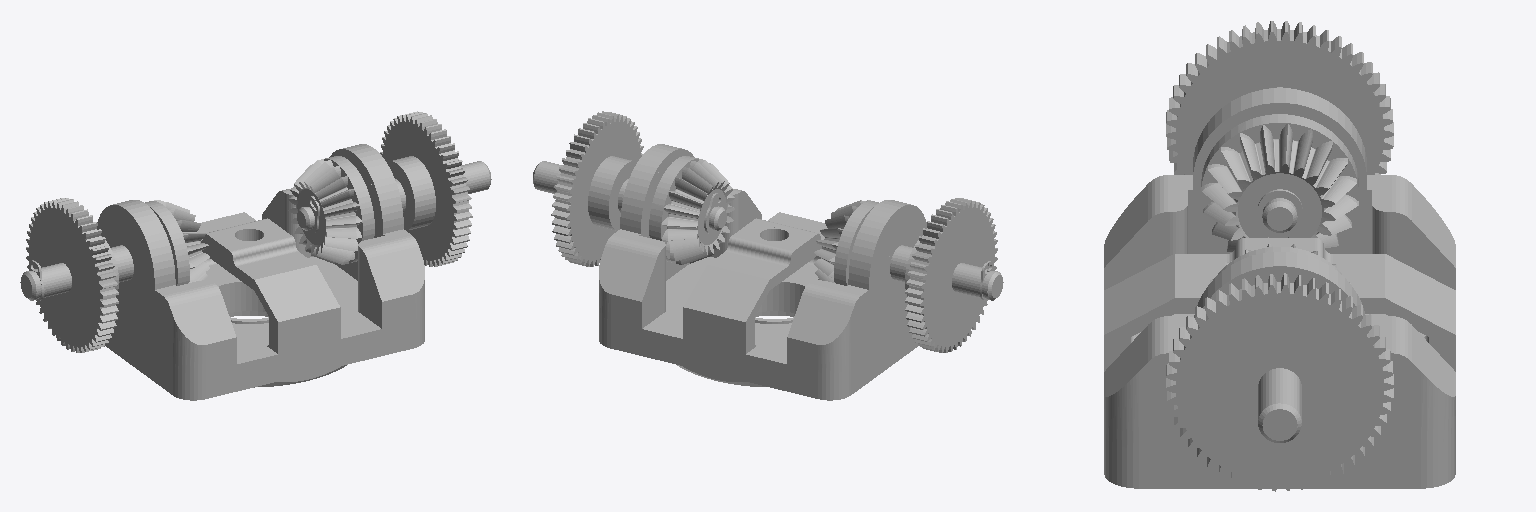
The robot description file, URDF, robot "signaturebot":
<?xml version="1.0" encoding="utf-8"?>

<robot
  name="signaturebot">
  <link name="world"/>

  <link
    name="base_link">
    <inertial>
      <origin
        xyz="0.043978 0.06035 0.0703"
        rpy="0 0 0" />
      <mass
        value="0.3524" />
      <inertia
        ixx="0.0003254"
        ixy="3.9578E-07"
        ixz="2.8883E-06"
        iyy="0.00040409"
        iyz="1.6475E-07"
        izz="0.00040678" />
    </inertial>
    <visual>
      <origin
        xyz="0 0 0"
        rpy="0 0 0" />
      <geometry>
        <mesh
          filename="package://fyp/meshes/visual/base_link.STL" />
      </geometry>
      <material
        name="">
        <color
          rgba="0.75294 0.75294 0.75294 1" />
      </material>
    </visual>
    <collision>
      <origin
        xyz="0 0 0"
        rpy="0 0 0" />
      <geometry>
        <mesh
          filename="package://fyp/meshes/collision/base_link.STL" />
      </geometry>
    </collision>
  </link>

  <joint name="fixed" type="fixed">
    <parent link="world"/>
    <child link="base_link"/>
    <origin rpy="0 0 0" xyz="0 0 0"/>
  </joint>

  <link
    name="pitch_link">
    <inertial>
      <origin
        xyz="1.1547E-05 0.0084522 -0.00010354"
        rpy="0 0 0" />
      <mass
        value="0.052828" />
      <inertia
        ixx="3.7725E-06"
        ixy="8.6169E-10"
        ixz="-5.1431E-09"
        iyy="6.3069E-06"
        iyz="4.0016E-11"
        izz="4.2353E-06" />
    </inertial>
    <visual>
      <origin
        xyz="0 0 0"
        rpy="0 0 0" />
      <geometry>
        <mesh
          filename="package://fyp/meshes/visual/pitch_link.STL" />
      </geometry>
      <material
        name="">
        <color
          rgba="0.75294 0.75294 0.75294 1" />
      </material>
    </visual>
    <collision>
      <origin
        xyz="0 0 0"
        rpy="0 0 0" />
      <geometry>
        <mesh
          filename="package://fyp/meshes/collision/pitch_link.STL" />
      </geometry>
    </collision>
  </link>

  <joint
    name="pitch"
    type="revolute">
    <origin
      xyz="0.096806 0.060005 0.15025"
      rpy="1.5708 0 1.5708" />
    <parent
      link="base_link" />
    <child
      link="pitch_link" />
    <axis
      xyz="0 0 1" />
    <limit
      lower="-1.571"
      upper="0.698"
      effort="100"
      velocity="1.0" />
    <dynamics
      damping="0.05"
      friction="0.02" />
  </joint>

  <transmission name="tran1">
    <type>transmission_interface/SimpleTransmission</type>
    <joint name="pitch">
      <hardwareInterface>hardware_interface/EffortJointInterface</hardwareInterface>
    </joint>
    <actuator name="motor1">
      <hardwareInterface>hardware_interface/EffortJointInterface</hardwareInterface>
      <mechanicalReduction>5</mechanicalReduction>
    </actuator>
  </transmission>

  <link
    name="yaw_link">
    <inertial>
      <origin
        xyz="0.011971 -0.022027 0.040808"
        rpy="0 0 0" />
      <mass
        value="0.15684" />
      <inertia
        ixx="6.4727E-05"
        ixy="8.0682E-06"
        ixz="-8.0047E-07"
        iyy="8.989E-05"
        iyz="5.6188E-07"
        izz="0.00012939" />
    </inertial>
    <visual>
      <origin
        xyz="0 0 0"
        rpy="0 0 0" />
      <geometry>
        <mesh
          filename="package://fyp/meshes/visual/yaw_link.STL" />
      </geometry>
      <material
        name="">
        <color
          rgba="0.49804 0.49804 0.49804 1" />
      </material>
    </visual>
    <collision>
      <origin
        xyz="0 0 0"
        rpy="0 0 0" />
      <geometry>
        <mesh
          filename="package://fyp/meshes/collision/yaw_link.STL" />
      </geometry>
    </collision>
  </link>

  <joint
    name="yaw"
    type="revolute">
    <origin
      xyz="0 0 0"
      rpy="-1.5708 0 0" />
    <parent
      link="pitch_link" />
    <child
      link="yaw_link" />
    <axis
      xyz="0 0 -1" />
    <limit
      lower="-0.96"
      upper="1.571"
      effort="100"
      velocity="1.0" />
    <dynamics
      damping="0.05"
      friction="0.02" />
  </joint>

  <transmission name="tran2">
    <type>transmission_interface/SimpleTransmission</type>
    <joint name="yaw">
      <hardwareInterface>hardware_interface/EffortJointInterface</hardwareInterface>
    </joint>
    <actuator name="motor2">
      <hardwareInterface>hardware_interface/EffortJointInterface</hardwareInterface>
      <mechanicalReduction>10</mechanicalReduction>
    </actuator>
  </transmission>

  <link
    name="extension_link">
    <inertial>
      <origin
        xyz="0.0061908 -0.065885 9.3556E-05"
        rpy="0 0 0" />
      <mass
        value="0.081074" />
      <inertia
        ixx="5.9014E-05"
        ixy="-3.3423E-08"
        ixz="-2.5282E-11"
        iyy="6.0525E-05"
        iyz="-1.0724E-09"
        izz="4.9084E-06" />
    </inertial>
    <visual>
      <origin
        xyz="0 0 0"
        rpy="0 0 0" />
      <geometry>
        <mesh
          filename="package://fyp/meshes/visual/extension_link.STL" />
      </geometry>
      <material
        name="">
        <color
          rgba="0.79216 0.81961 0.93333 1" />
      </material>
    </visual>
    <collision>
      <origin
        xyz="0 0 0"
        rpy="0 0 0" />
      <geometry>
        <mesh
          filename="package://fyp/meshes/collision/extension_link.STL" />
      </geometry>
    </collision>
  </link>

  <joint
    name="extension"
    type="prismatic">
    <origin
      xyz="0 -3.6757E-05 -0.050079"
      rpy="-1.5708 0 -1.5708" />
    <parent
      link="yaw_link" />
    <child
      link="extension_link" />
    <axis
      xyz="0 0 1" />
    <limit
      lower="0"
      upper="0.065"
      effort="100"
      velocity="0.5" />
    <dynamics
      damping="0.05"
      friction="0.02" />
  </joint>

  <transmission name="tran3">
    <type>transmission_interface/SimpleTransmission</type>
    <joint name="extension">
      <hardwareInterface>hardware_interface/EffortJointInterface</hardwareInterface>
    </joint>
    <actuator name="motor3">
      <hardwareInterface>hardware_interface/EffortJointInterface</hardwareInterface>
      <mechanicalReduction>0.03927</mechanicalReduction>
    </actuator>
  </transmission>

  <gazebo>
    <plugin name="control" filename='libgazebo_ros_control.so'>
      <robotNamespace>/signaturebot</robotNamespace>
    </plugin>
  </gazebo>

  <!--gazebo plugin that publishes JointState messages for all joints, works in conjuctiong with robot_state_publisher to give 3D robot state-->
  <gazebo>
    <plugin name="joint_state_publisher" filename="libgazebo_ros_joint_state_publisher.so">
      <jointName>pitch, yaw, extension</jointName>
      <robotNamespace>/signaturebot</robotNamespace>
      <updateRate>100.0</updateRate>
    </plugin>
  </gazebo>

</robot>

--- Facts derived from the render (not from the file) ---
The picture shows the robot from 3 angles, left to right: view 1: azimuth 30°, elevation 25°; view 2: azimuth 150°, elevation 25°; view 3: azimuth 270°, elevation 25°; orthographic projection.
Robot: signaturebot — 5 links, 4 joints (2 revolute, 1 prismatic, 1 fixed); root link world; default pose: all joints at 0.
Links seen in each view (by area): view 1: pitch_link; view 2: pitch_link; view 3: pitch_link.
Link boxes in pixels (x1=…): pitch_link: x1=20, y1=111, x2=491, y2=400; pitch_link: x1=533, y1=111, x2=1003, y2=400; pitch_link: x1=1104, y1=21, x2=1455, y2=491.
Size in the robot's own frame: 0.0885 by 0.04 by 0.033 metres.
1 mesh visuals loaded from 4 distinct referenced files (1 binary STL); not drawn: 3 (reference not matched to a file when rendering).